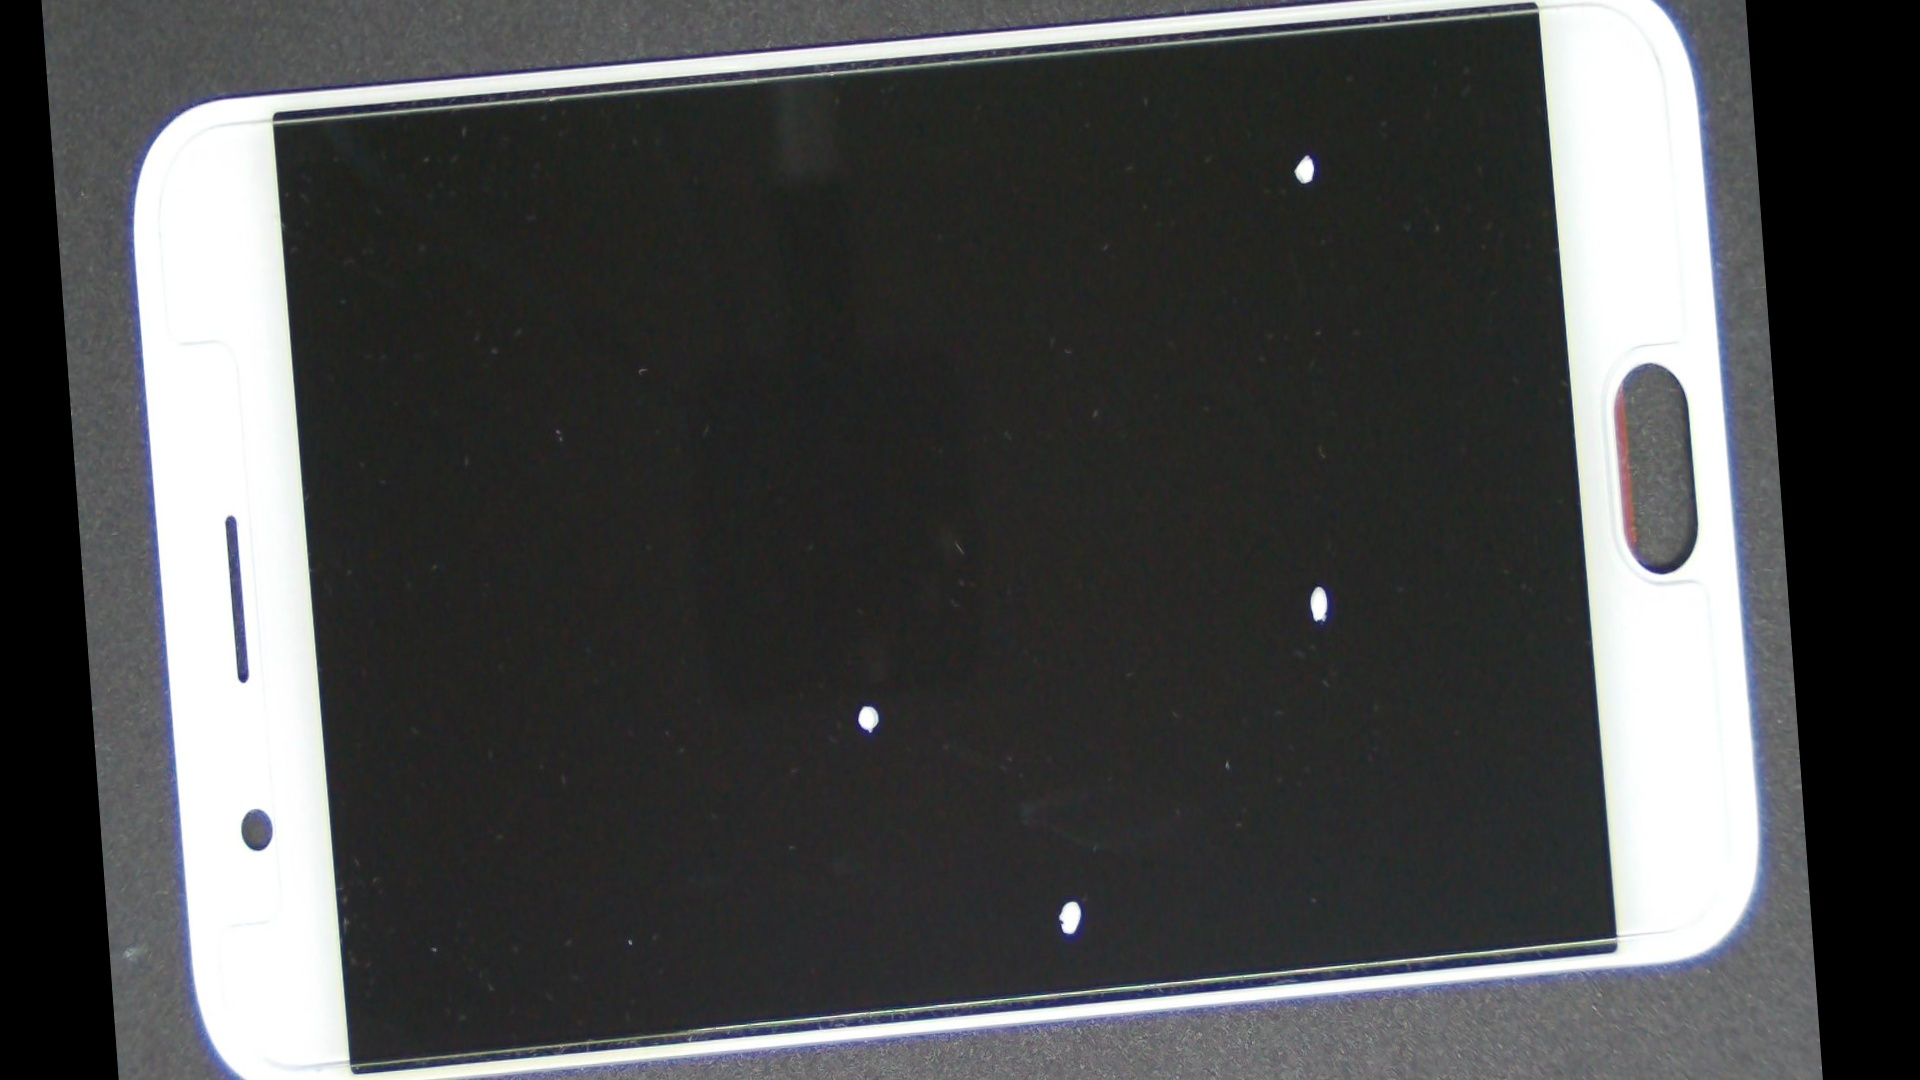oil: (679, 196, 1811, 985), (558, 361, 1577, 1080), (452, 278, 1279, 1080), (673, 0, 1764, 336)
